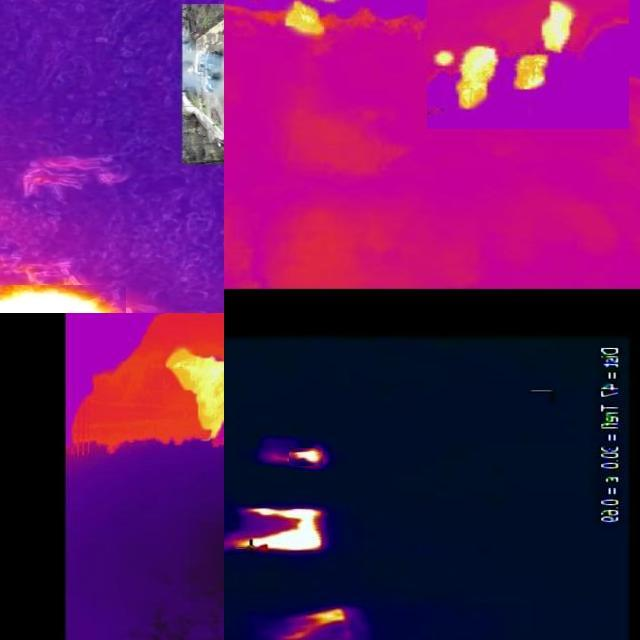fire: (428, 1, 585, 119), (157, 340, 228, 437), (1, 267, 130, 313), (237, 507, 327, 552), (272, 1, 342, 43), (299, 607, 351, 628), (290, 448, 324, 466)
